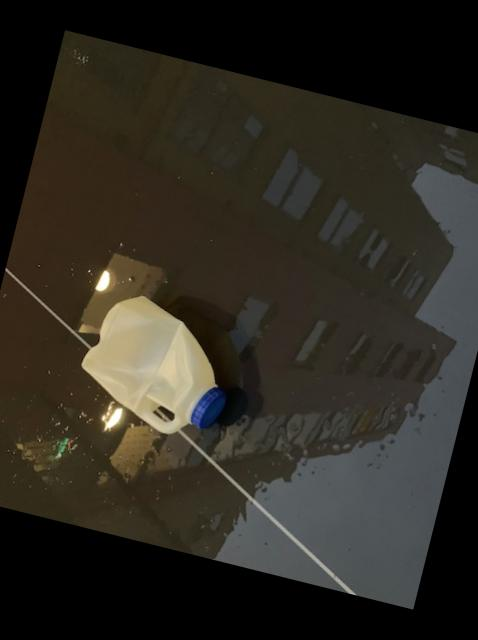plastic: (80, 295, 224, 432)
